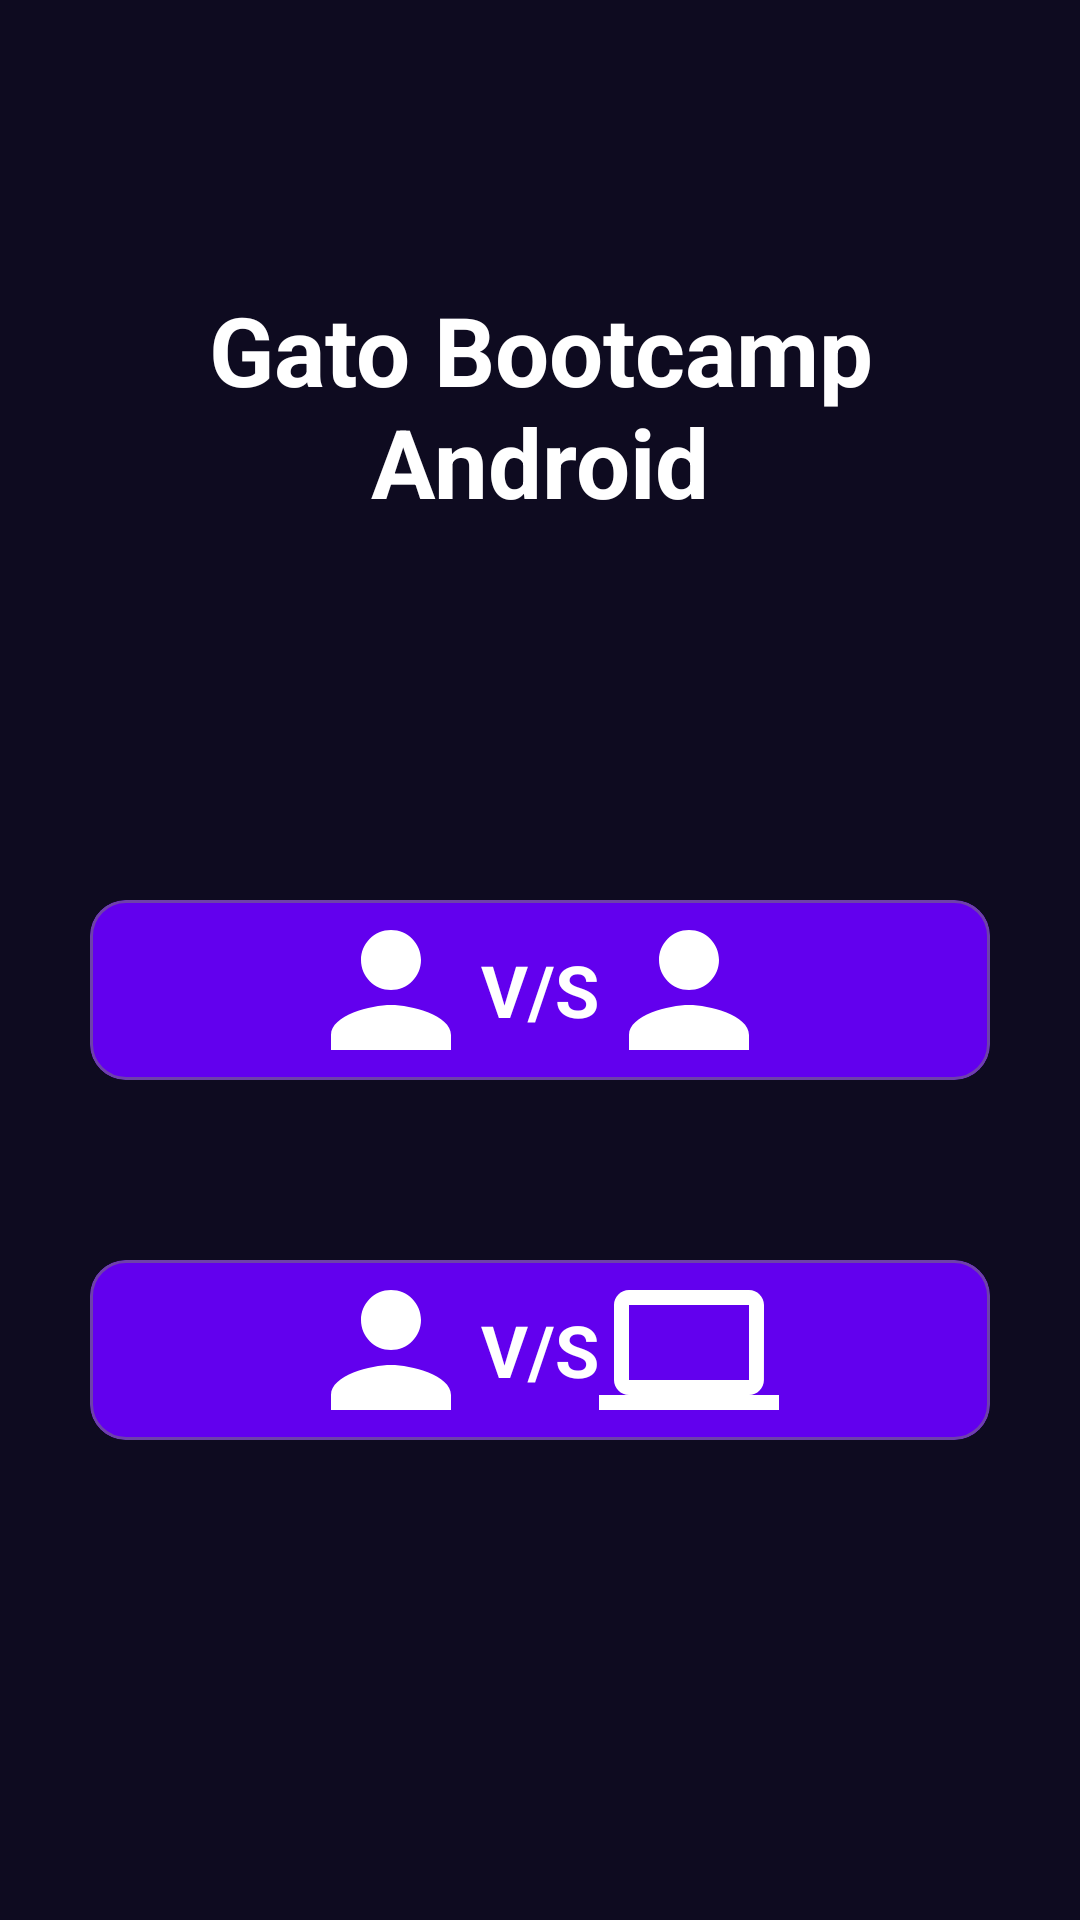

Screen size 1080*1920. Icon name, then its center in pixels as (x,y):
computer: (689,1350)
persona: (391,990), (689,990), (391,1350)
